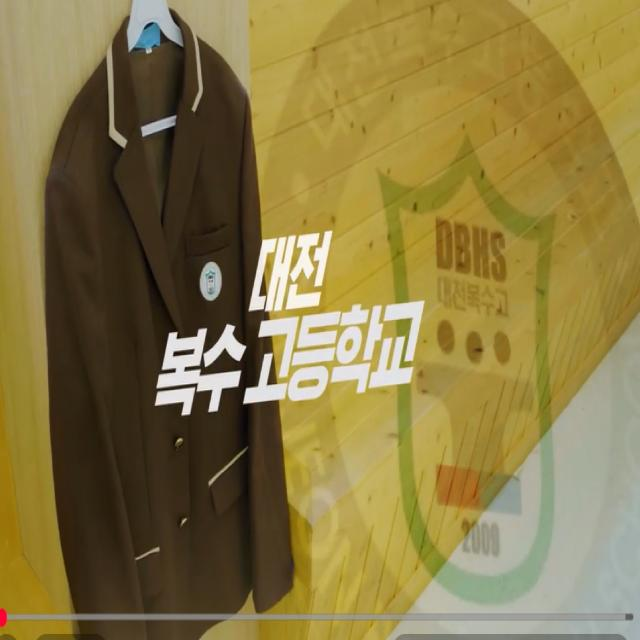logo: (245, 5, 640, 640), (197, 258, 224, 306)
